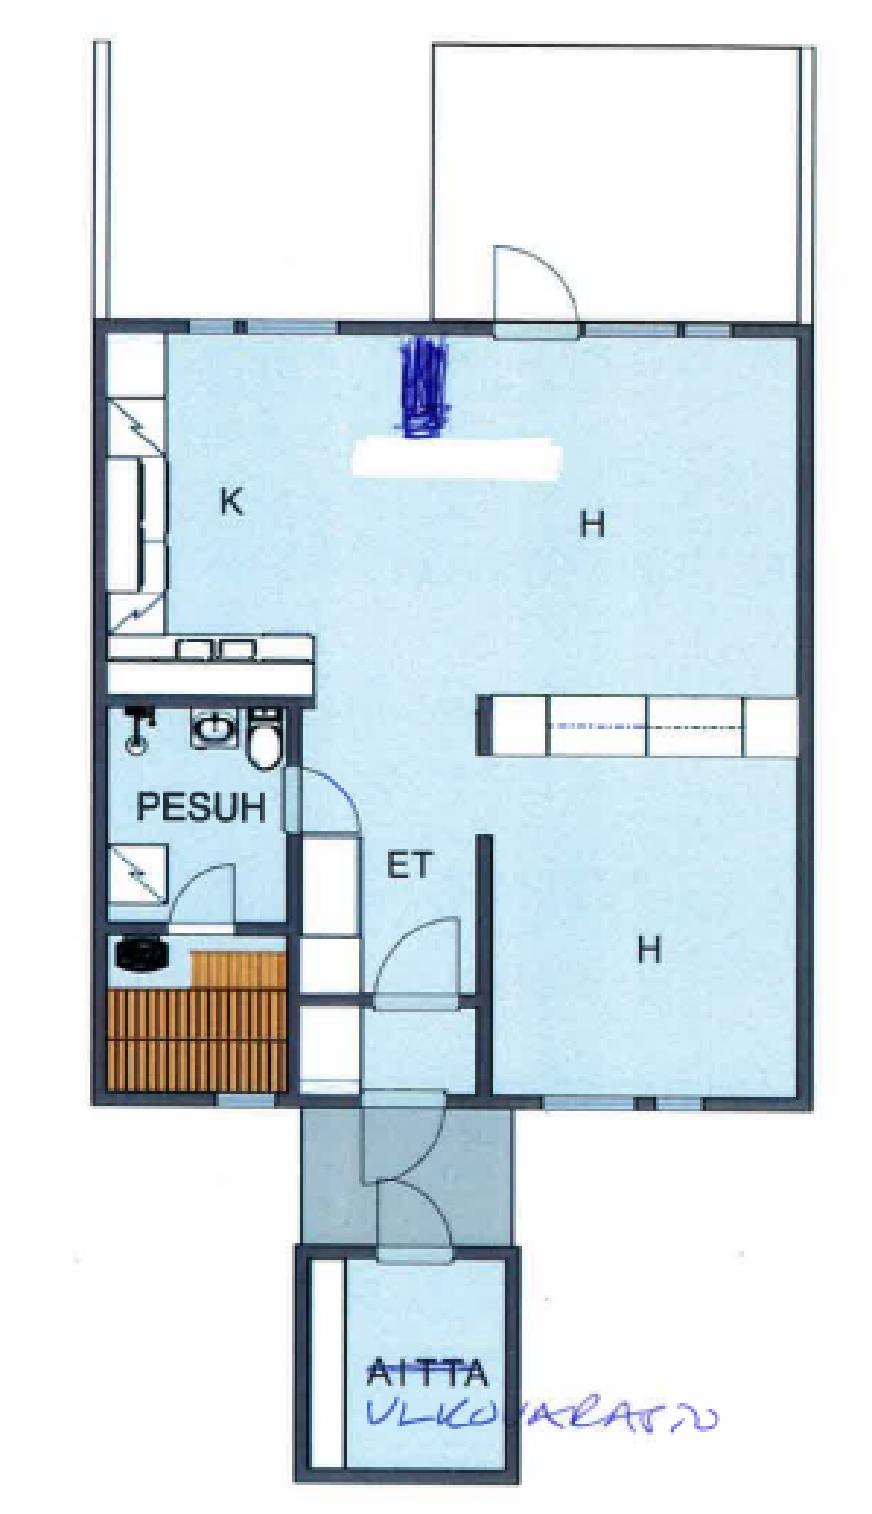door: (355, 1079, 450, 1185), (488, 244, 578, 353), (374, 913, 463, 1015), (374, 1177, 458, 1265), (278, 768, 363, 846), (169, 854, 236, 935)
window: (582, 321, 677, 343), (247, 316, 339, 338), (538, 1094, 630, 1113), (222, 1090, 272, 1113), (658, 1091, 703, 1116), (178, 321, 236, 340), (686, 321, 730, 344)
zone: (113, 332, 802, 1098), (433, 46, 799, 316), (319, 1251, 502, 1463), (110, 705, 285, 923), (107, 932, 288, 1087), (302, 1113, 505, 1246), (302, 1009, 474, 1091)
